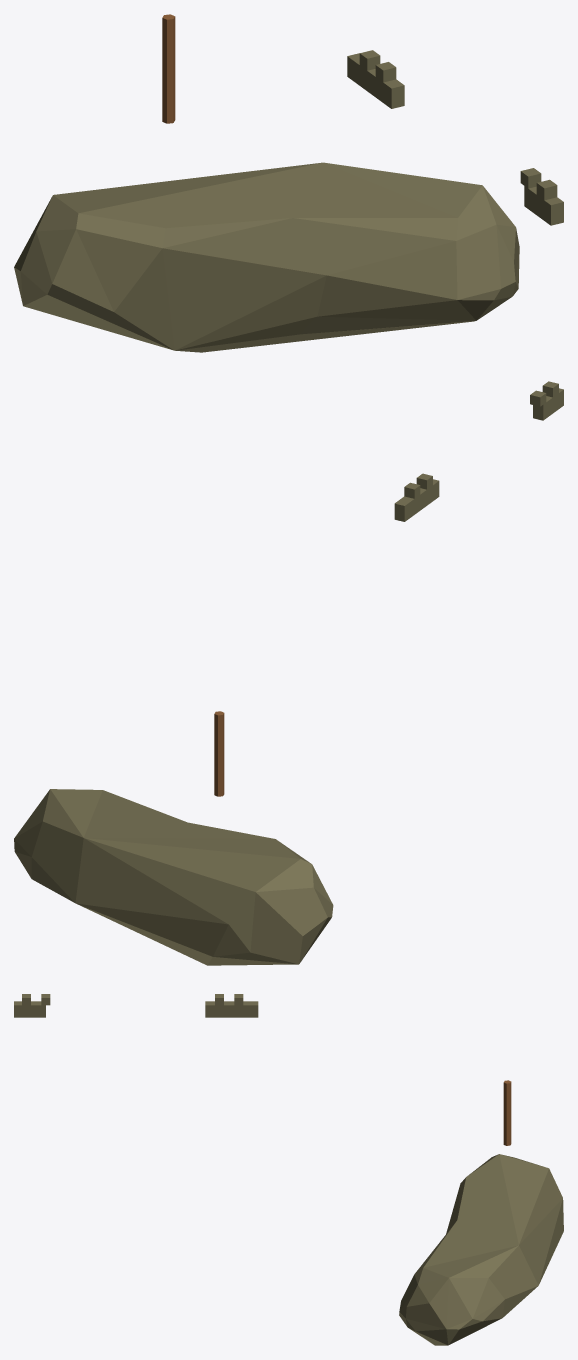
3 renders of one model, top to bottom at view 1: azimuth 30°, elevation 25°; view 2: azimuth 150°, elevation 25°; view 3: azimuth 270°, elevation 25°, orthographic. The views are drawn at different scales.
Visible parts, largest first — view 1: Box15572_rock2_0, Cylinder1676_brown_0, Object246_rock2_0, Object248_rock2_0; view 2: Box15572_rock2_0, Cylinder1676_brown_0, Object246_rock2_0; view 3: Box15572_rock2_0, Object246_rock2_0, Cylinder1676_brown_0, Object248_rock2_0.
Boxes of the visible parts, box(x1,y1,x2,y2) form: Box15572_rock2_0: box(14, 162, 519, 352); Cylinder1676_brown_0: box(162, 14, 175, 123); Object246_rock2_0: box(347, 53, 404, 108); Object248_rock2_0: box(524, 186, 563, 225); Box15572_rock2_0: box(14, 789, 333, 965); Cylinder1676_brown_0: box(214, 711, 224, 796); Object246_rock2_0: box(394, 479, 439, 521); Box15572_rock2_0: box(399, 1154, 563, 1345); Object246_rock2_0: box(205, 1001, 258, 1017); Cylinder1676_brown_0: box(503, 1080, 511, 1145); Object248_rock2_0: box(14, 1001, 45, 1017).
Bounding box in the file's own units: 1359 × 1364 × 2426.
